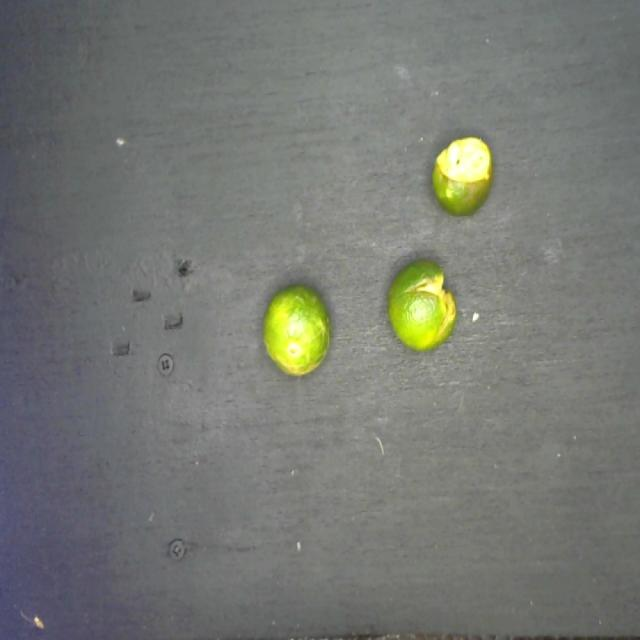biodegradable: (260, 128, 499, 385)
